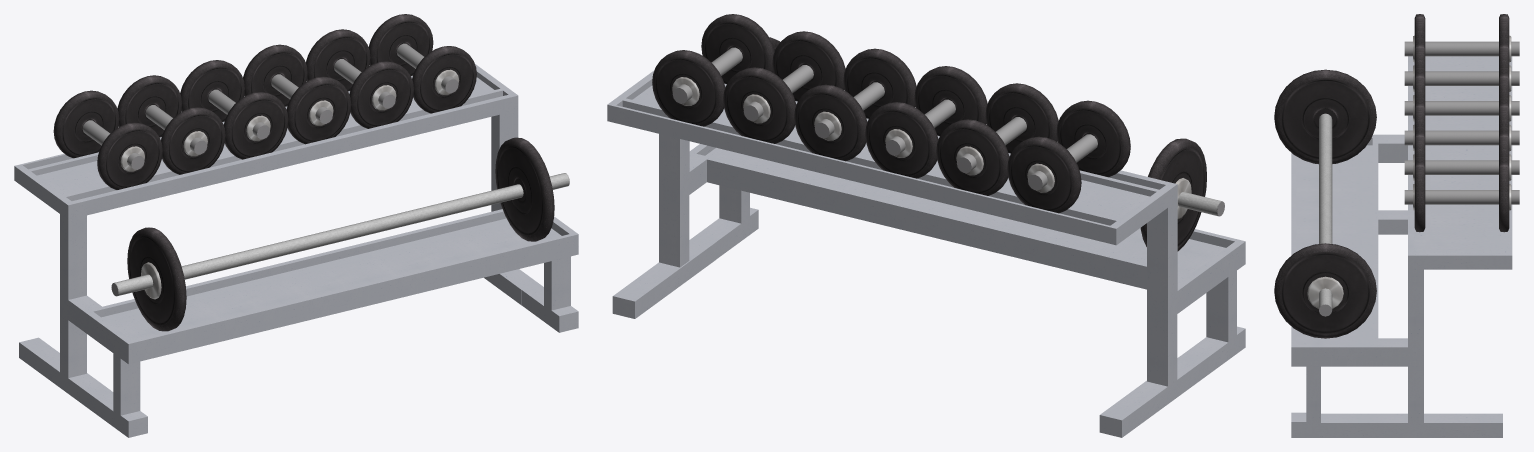
Rendered from StandBarbells.FBX.
3 renders of one model, left to right at view 1: azimuth 30°, elevation 25°; view 2: azimuth 150°, elevation 25°; view 3: azimuth 270°, elevation 25°, orthographic. The views are drawn at different scales.
Parts seen in each view (by area): view 1: StandBarbells, Barbells7; view 2: StandBarbells, Barbells7; view 3: StandBarbells, Barbells7.
Boxes of the visible parts, box(x1,y1,x2,y2) form: StandBarbells: box(14, 64, 578, 437); Barbells7: box(53, 14, 569, 331); StandBarbells: box(607, 70, 1245, 437); Barbells7: box(652, 14, 1224, 251); StandBarbells: box(1291, 56, 1512, 437); Barbells7: box(1274, 14, 1519, 338).
Bounding box in the file's own units: 2125 × 1107 × 1026.
